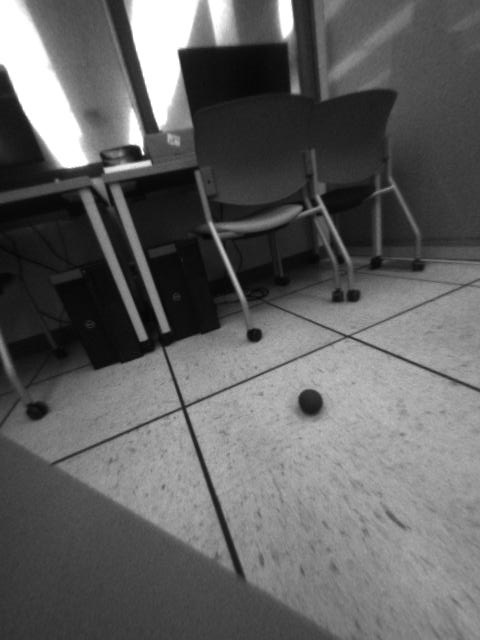dogtoy: (293, 383, 334, 424)
